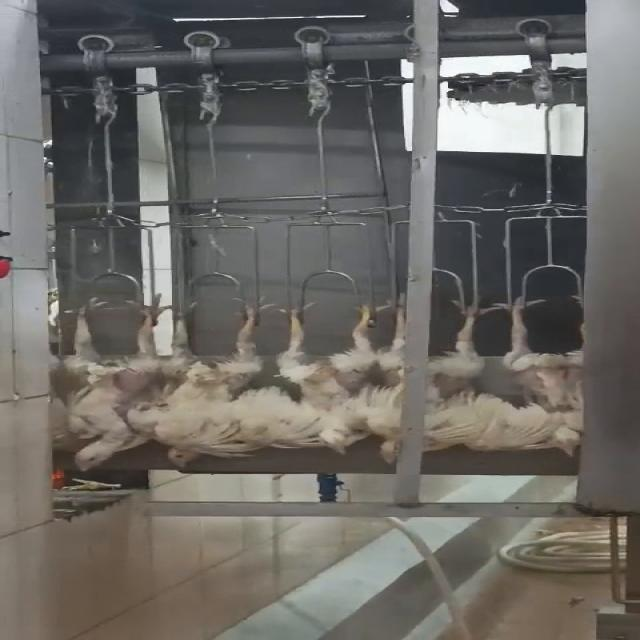chicken: (377, 298, 499, 471), (155, 294, 269, 471), (60, 294, 168, 475), (272, 300, 379, 454), (498, 292, 581, 462)
